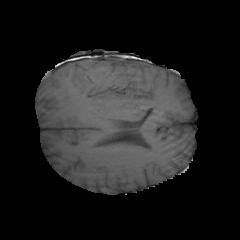glioma: (70, 66, 136, 111)
